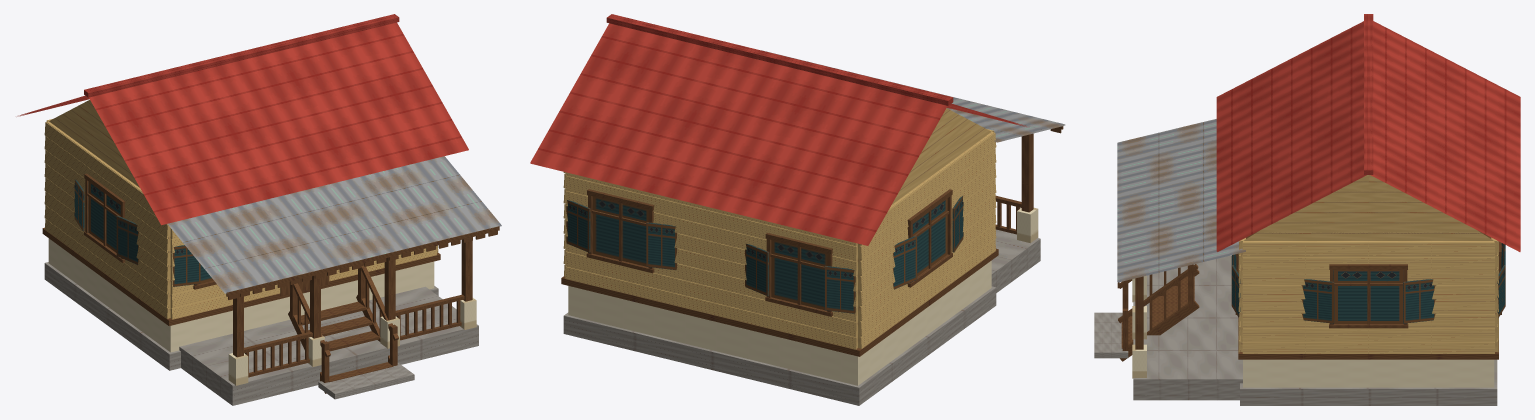
The model's file is rumah_jiran_3.glb.
The picture shows the model from 3 angles, left to right: view 1: azimuth 30°, elevation 25°; view 2: azimuth 150°, elevation 25°; view 3: azimuth 270°, elevation 25°; orthographic projection. The views are drawn at different scales.
Visible parts, largest first — view 1: Rumah_Jiran_3; view 2: Rumah_Jiran_3; view 3: Rumah_Jiran_3.
Boxes of the visible parts, box(x1,y1,x2,y2) form: Rumah_Jiran_3: box(17, 14, 501, 405); Rumah_Jiran_3: box(530, 14, 1065, 405); Rumah_Jiran_3: box(1094, 14, 1520, 405).
Size of the model in its own units: 7.07 by 5.31 by 8.15.
Materials: 1 (1 with a texture image).
